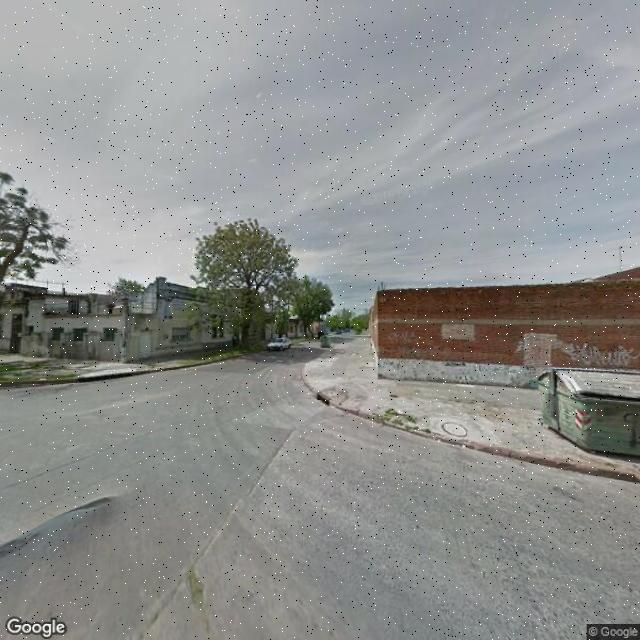garbage container: (529, 361, 640, 470)
